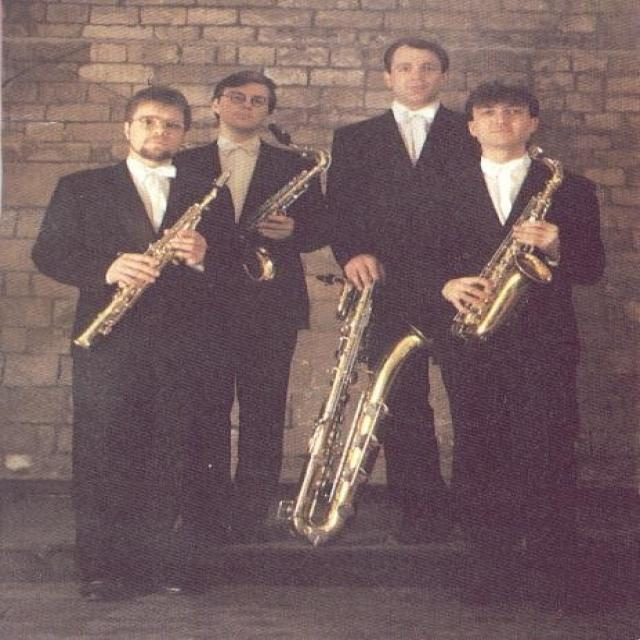saxophone: (286, 263, 440, 545), (450, 141, 570, 343), (223, 123, 334, 287)
